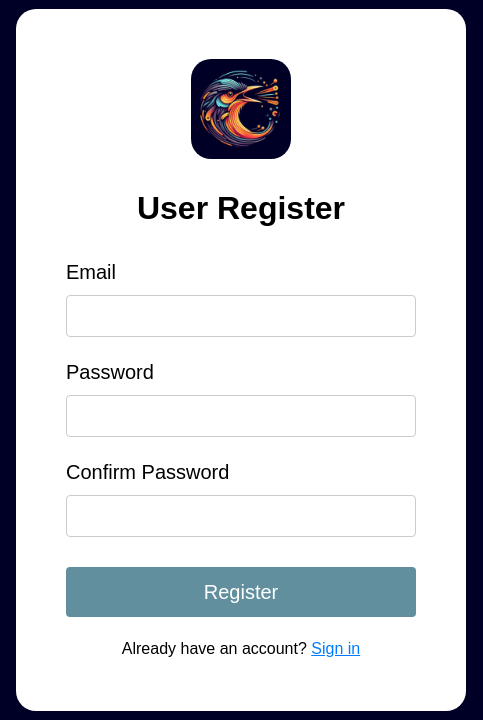
Test: Register Listener Page › shows server error on failed registration
In the field labelled "Email": (241, 316) 66,295 -> 416,337, type "duplicate@example.com"
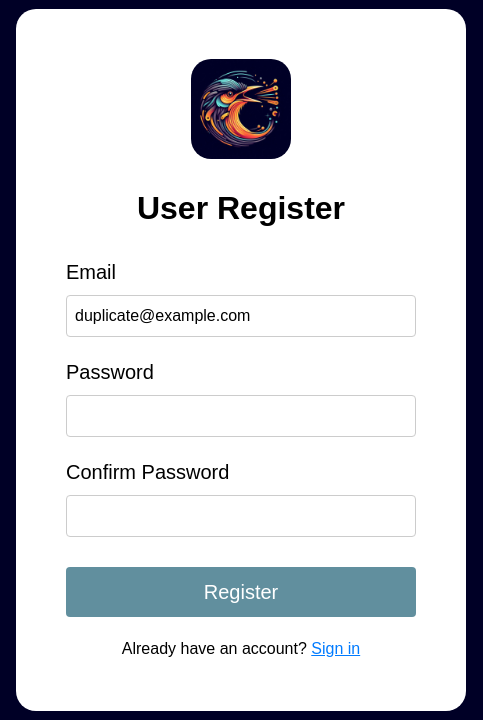
In the password field labelled "Password": (241, 416) 66,395 -> 416,437, type "password123"
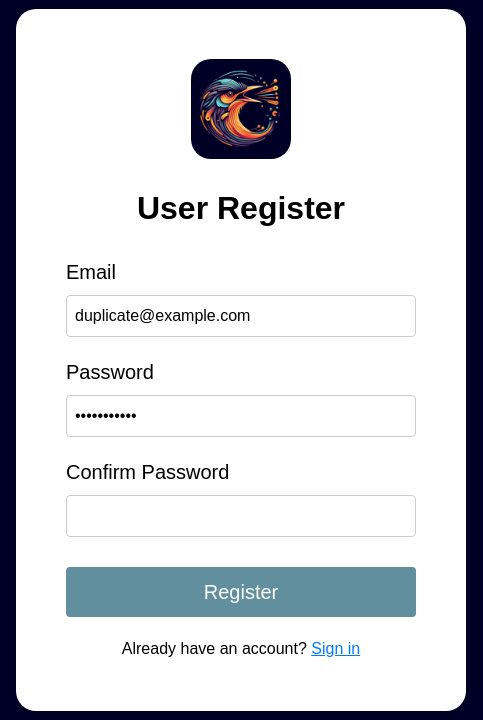
In the password field labelled "Confirm Password": (241, 516) 66,495 -> 416,537, type "password123"
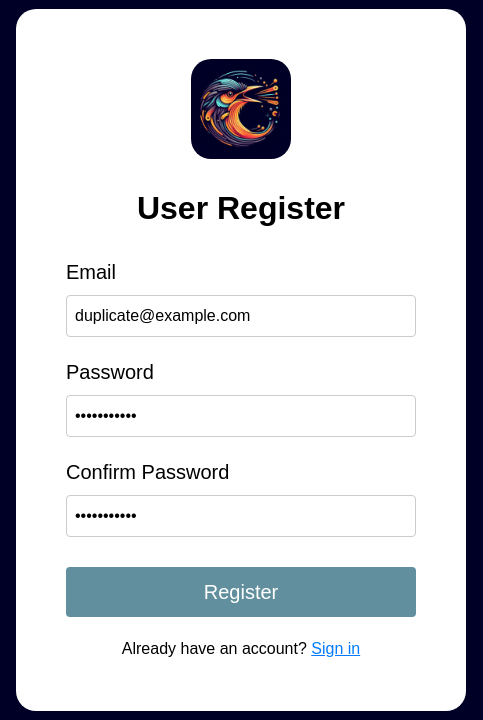
Click the button "Register": (241, 592) 66,567 -> 416,617
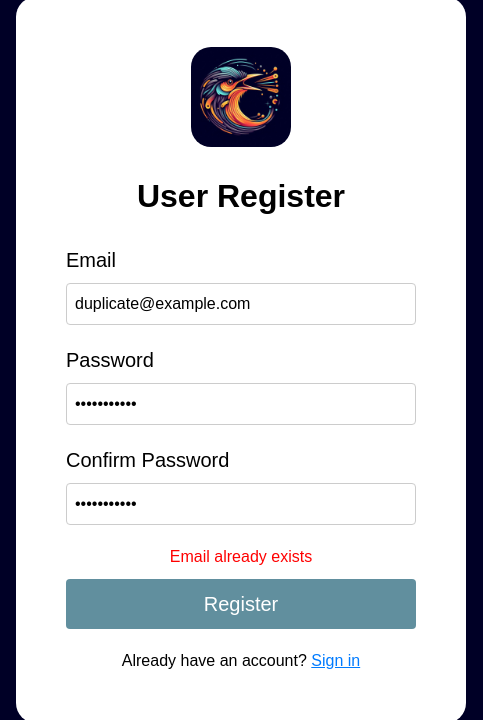
Now the text "Email already exists" is shown, box 170,548 -> 312,565
